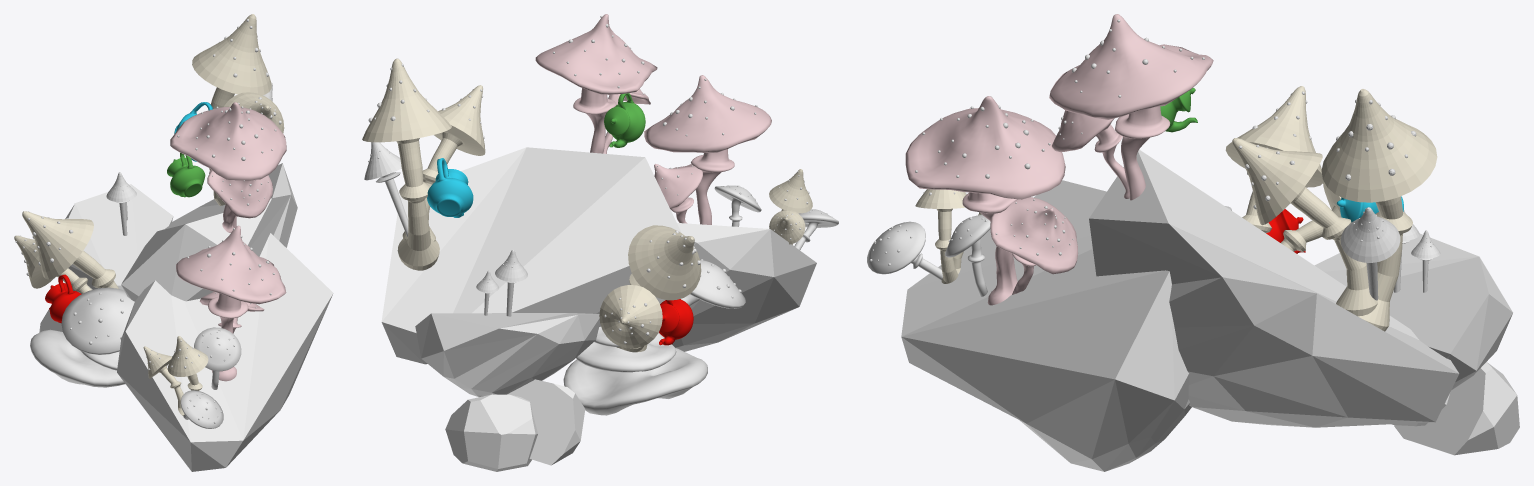
Rendered from portal 2.fbx.
3 views of the same model, side by side, from view 1: azimuth 30°, elevation 25°; view 2: azimuth 150°, elevation 25°; view 3: azimuth 270°, elevation 25° (orthographic). The views are drawn at different scales.
Parts seen in each view (by area): view 1: Rocha_Grande_Icosphere.000, Rocha_Grande_Icosphere.004, Circle.107, Circle.110, Rocha__média_Icosphere.005, Circle.008_Circle.000_Circle.008_Circle.000, Circle.132, Circle.008_Circle.000_Circle.008_Circle.014, Circle.113, Circle.108, Circle.112, Circle.111 (+9 smaller); view 2: Rocha_Grande_Icosphere.004, Rocha__média_Icosphere.005, Rocha_Grande_Icosphere.000, Circle.008_Circle.000_Circle.008_Circle.000, Circle.110, Circle.107, Cube.088, Circle.113, Circle.008_Circle.000_Circle.008_Circle.014, Cube.087, Circle.008_Circle.000_Circle.008_Circle.015, Circle.008_Circle.000_Circle.008_Circle.002 (+12 smaller); view 3: Rocha_Grande_Icosphere.004, Rocha_Grande_Icosphere.000, Circle.110, Circle.107, Rocha__média_Icosphere.005, Circle.008_Circle.000_Circle.008_Circle.000, Circle.008_Circle.000_Circle.008_Circle.002, Cube.088, Circle.109, Circle.008_Circle.000_Circle.008_Circle.014, Circle.007_Circle.004, Circle.111 (+6 smaller).
Boxes of the visible parts, left/top/right/bottom form: Rocha_Grande_Icosphere.000: left=117, top=233, right=333, bottom=471; Rocha_Grande_Icosphere.004: left=121, top=163, right=297, bottom=301; Circle.107: left=170, top=102, right=286, bottom=227; Circle.110: left=176, top=225, right=286, bottom=381; Rocha__média_Icosphere.005: left=65, top=184, right=173, bottom=290; Circle.008_Circle.000_Circle.008_Circle.000: left=192, top=14, right=271, bottom=205; Circle.132: left=61, top=287, right=134, bottom=354; Circle.008_Circle.000_Circle.008_Circle.014: left=22, top=211, right=118, bottom=288; Circle.113: left=30, top=329, right=125, bottom=387; Circle.108: left=207, top=170, right=272, bottom=232; Circle.112: left=194, top=327, right=241, bottom=389; Circle.111: left=180, top=390, right=223, bottom=428; Rocha_Grande_Icosphere.004: left=381, top=147, right=681, bottom=364; Rocha__média_Icosphere.005: left=415, top=313, right=599, bottom=397; Rocha_Grande_Icosphere.000: left=656, top=223, right=816, bottom=351; Circle.008_Circle.000_Circle.008_Circle.000: left=362, top=58, right=451, bottom=270; Circle.110: left=644, top=75, right=771, bottom=224; Circle.107: left=535, top=14, right=657, bottom=153; Cube.088: left=445, top=394, right=537, bottom=471; Circle.113: left=563, top=348, right=707, bottom=415; Circle.008_Circle.000_Circle.008_Circle.014: left=616, top=225, right=701, bottom=352; Cube.087: left=507, top=379, right=585, bottom=465; Circle.008_Circle.000_Circle.008_Circle.015: left=599, top=285, right=662, bottom=352; Circle.008_Circle.000_Circle.008_Circle.002: left=402, top=85, right=485, bottom=241; Rocha_Grande_Icosphere.004: left=1089, top=149, right=1459, bottom=427; Rocha_Grande_Icosphere.000: left=901, top=180, right=1191, bottom=471; Circle.110: left=905, top=96, right=1065, bottom=305; Circle.107: left=1049, top=14, right=1213, bottom=200; Rocha__média_Icosphere.005: left=1314, top=233, right=1512, bottom=389; Circle.008_Circle.000_Circle.008_Circle.000: left=1321, top=89, right=1437, bottom=331; Circle.008_Circle.000_Circle.008_Circle.002: left=1232, top=138, right=1377, bottom=316; Cube.088: left=1394, top=362, right=1519, bottom=455; Circle.109: left=990, top=197, right=1078, bottom=294; Circle.008_Circle.000_Circle.008_Circle.014: left=1225, top=86, right=1323, bottom=232; Circle.007_Circle.004: left=1340, top=207, right=1400, bottom=300; Circle.111: left=867, top=221, right=942, bottom=280.
Size of the model in its own units: 1637 by 1827 by 2395.
